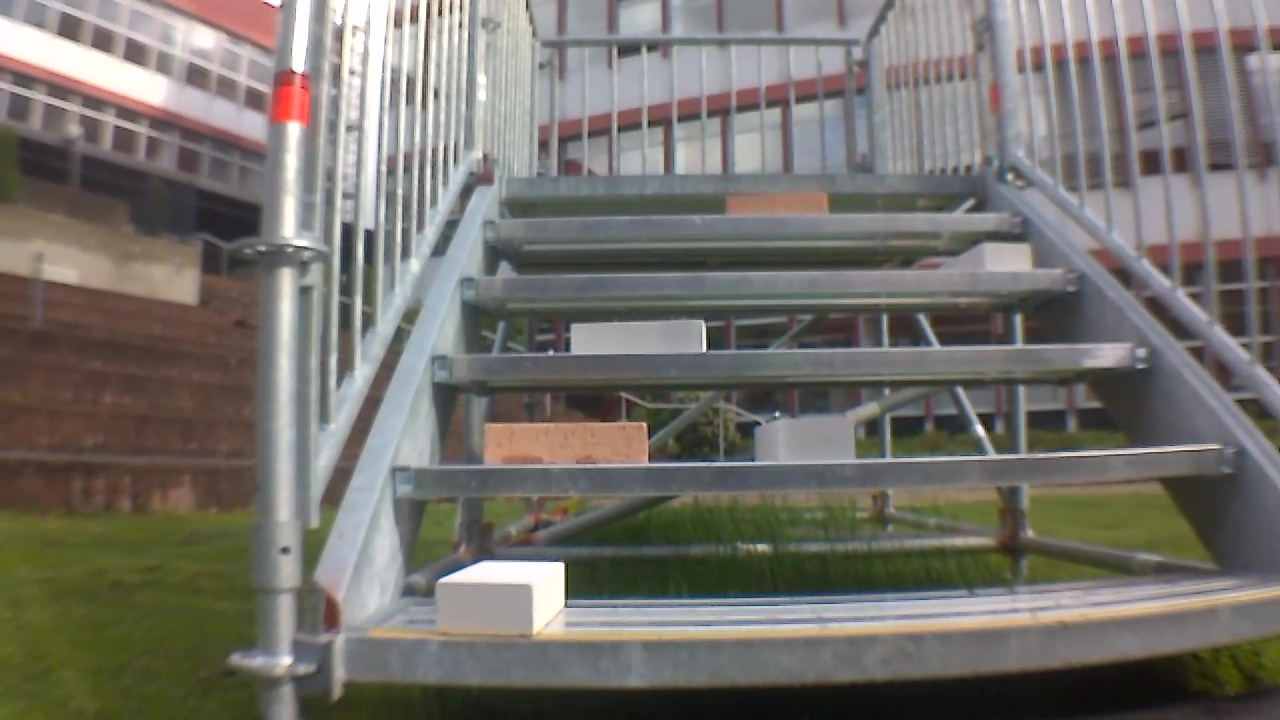brick: (434, 561, 570, 633), (480, 420, 651, 466), (754, 415, 855, 460), (571, 318, 707, 351), (938, 239, 1036, 277), (722, 189, 830, 217)
edge: (333, 593, 1280, 687), (393, 440, 1237, 496), (427, 342, 1151, 382), (456, 268, 1084, 299), (475, 213, 1028, 244), (501, 173, 985, 200)
stairs: (265, 0, 1280, 717)
steps: (327, 174, 1280, 698)
